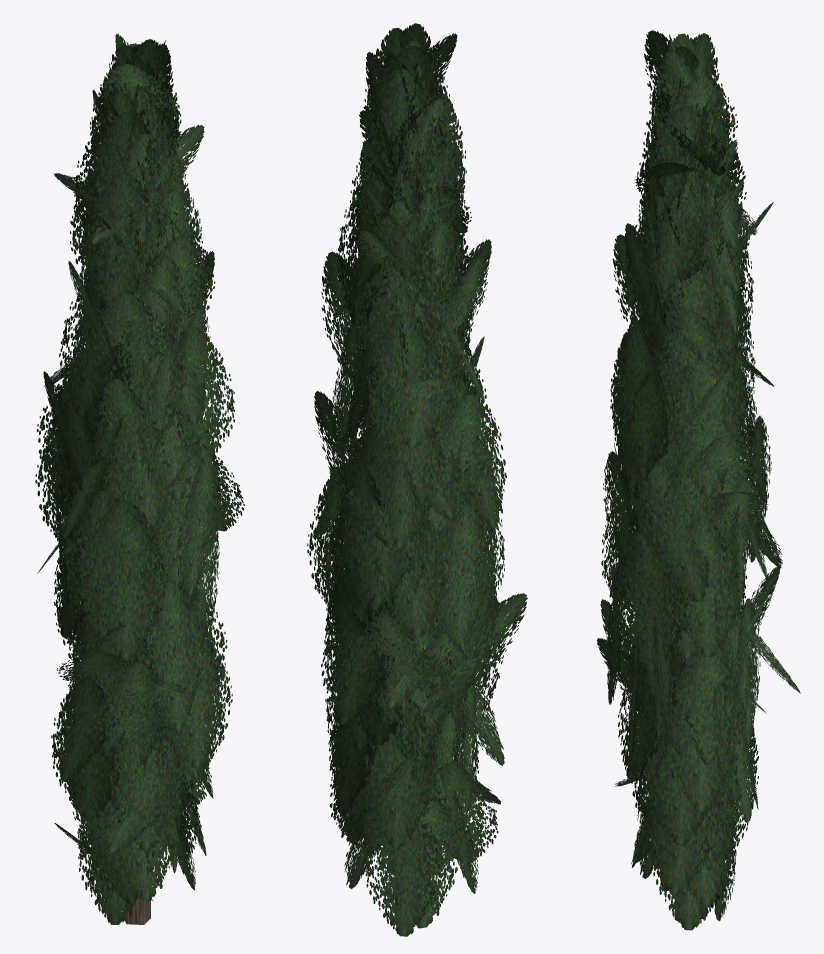
The model's file is Tree_Cypress_2_LOD1.gltf.
3 views of the same model, side by side, from view 1: azimuth 30°, elevation 25°; view 2: azimuth 150°, elevation 25°; view 3: azimuth 270°, elevation 25° (orthographic).
Parts seen in each view (by area): view 1: Tree_Cypress_2_LOD1; view 2: Tree_Cypress_2_LOD1; view 3: Tree_Cypress_2_LOD1.
Boxes of the visible parts, x1=… form: Tree_Cypress_2_LOD1: x1=35, y1=33, x2=244, y2=924; Tree_Cypress_2_LOD1: x1=307, y1=23, x2=527, y2=936; Tree_Cypress_2_LOD1: x1=596, y1=30, x2=800, y2=930.
Size of the model in its own units: 4.54 by 16.67 by 3.9.
Materials: 2 (2 with a texture image).
